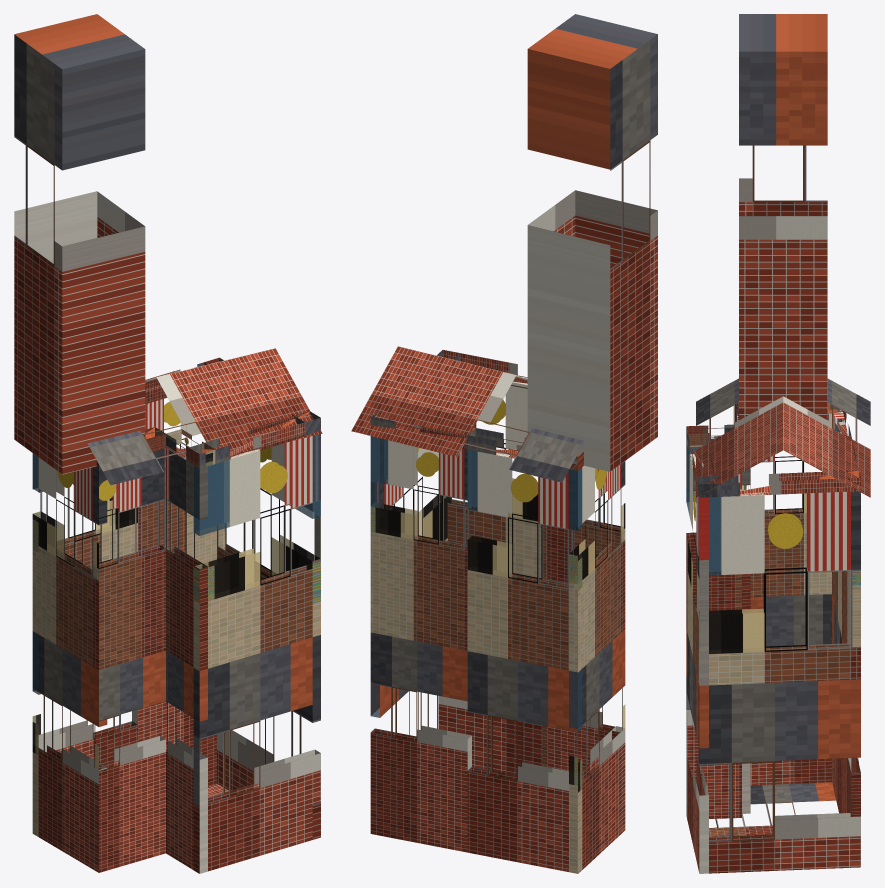
3 renders of one model, left to right at view 1: azimuth 30°, elevation 25°; view 2: azimuth 150°, elevation 25°; view 3: azimuth 270°, elevation 25°, orthographic. The views are drawn at different scales.
Visible parts, largest first — view 1: 238528919__chimney_0_xb, 238528919__wall_4_xb, 238528919__wall_2_xb, 238528919__wall_1_xb, 238528919__wall_3_xb, 238528919_roof_-1_xb, 238528919__wall_0_xb, 238528919__wall_5_xb, 238528919__wall_6_xb, 238528919__wall_4_xf, 238528919__wall_5_xf, 238528919__cornice_4 (+3 smaller); view 2: 238528919__chimney_0_xb, 238528919__wall_0_xb, 238528919__wall_6_xb, 238528919__wall_1_xb, 238528919_roof_1_xb, 238528919__wall_4_xb, 238528919__wall_2_xb, 238528919__wall_5_xb, 238528919__wall_0_xf, 238528919__wall_6_xf, 238528919__wall_1_xf, 238528919__wall_5_xf (+2 smaller); view 3: 238528919__wall_5_xb, 238528919__chimney_0_xb, 238528919__wall_1_xb, 238528919__wall_4_xb, 238528919_roof_1_xb, 238528919_roof_-1_xb, 238528919__wall_3_xb, 238528919__wall_5_xf, 238528919__cornice_5, 238528919__base, 238528919__wall_6_xb, 238528919__wall_0_xb (+4 smaller).
Boxes of the visible parts, box(x1,y1,x2,y2) form: 238528919__chimney_0_xb: box(14, 14, 145, 474); 238528919__wall_4_xb: box(193, 434, 320, 873); 238528919__wall_2_xb: box(93, 448, 165, 872); 238528919__wall_1_xb: box(32, 457, 107, 872); 238528919__wall_3_xb: box(166, 447, 207, 873); 238528919_roof_-1_xb: box(87, 348, 322, 485); 238528919__wall_0_xb: box(32, 453, 137, 836); 238528919__wall_5_xb: box(217, 434, 320, 839); 238528919__wall_6_xb: box(132, 399, 225, 785); 238528919__wall_4_xf: box(194, 460, 259, 602); 238528919__wall_5_xf: box(272, 434, 320, 602); 238528919__cornice_4: box(189, 411, 309, 468); 238528919__chimney_0_xb: box(527, 14, 657, 471); 238528919__wall_0_xb: box(467, 450, 582, 873); 238528919__wall_6_xb: box(370, 436, 471, 852); 238528919__wall_1_xb: box(569, 461, 625, 873); 238528919_roof_1_xb: box(351, 346, 584, 482); 238528919__wall_4_xb: box(438, 381, 542, 775); 238528919__wall_2_xb: box(547, 469, 625, 770); 238528919__wall_5_xb: box(370, 438, 451, 734); 238528919__wall_0_xf: box(468, 450, 581, 791); 238528919__wall_6_xf: box(371, 436, 417, 539); 238528919__wall_1_xf: box(569, 470, 594, 785); 238528919__wall_5_xf: box(371, 481, 451, 717); 238528919__wall_5_xb: box(698, 491, 860, 873); 238528919__chimney_0_xb: box(739, 14, 827, 419); 238528919__wall_1_xb: box(735, 407, 841, 785); 238528919__wall_4_xb: box(686, 445, 708, 873); 238528919_roof_1_xb: box(783, 378, 870, 497); 238528919_roof_-1_xb: box(696, 378, 783, 497); 238528919__wall_3_xb: box(686, 438, 741, 819); 238528919__wall_5_xf: box(709, 497, 764, 653); 238528919__cornice_5: box(697, 470, 860, 496); 238528919__base: box(709, 782, 836, 836); 238528919__wall_6_xb: box(842, 570, 860, 816); 238528919__wall_0_xb: box(832, 409, 848, 813).
Bounding box in the file's own units: 0.4293 × 1.4 × 0.3105.
1 material, 1 textured.
